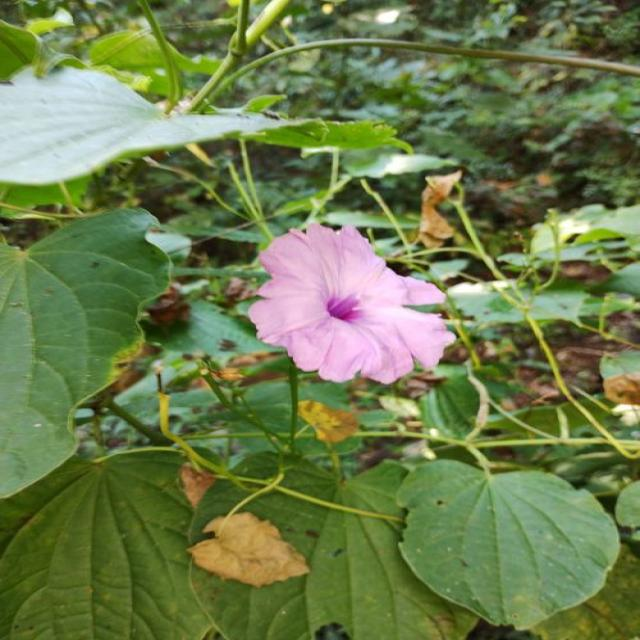ipomoea: (243, 221, 460, 387)
